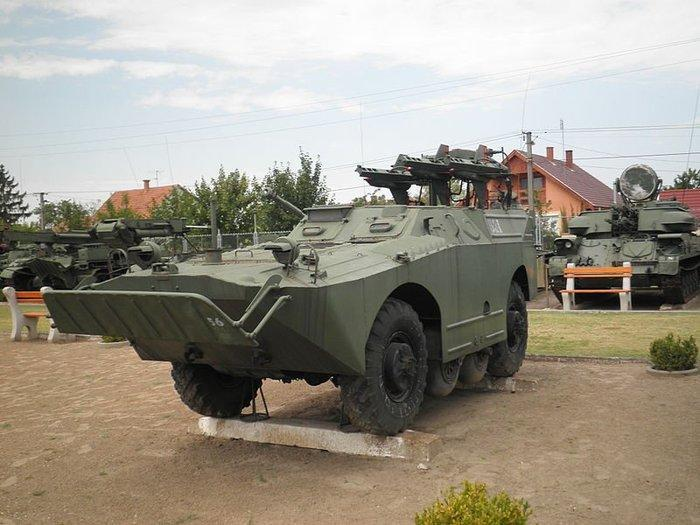MIL_IFV: (43, 141, 538, 438), (546, 164, 700, 308)
